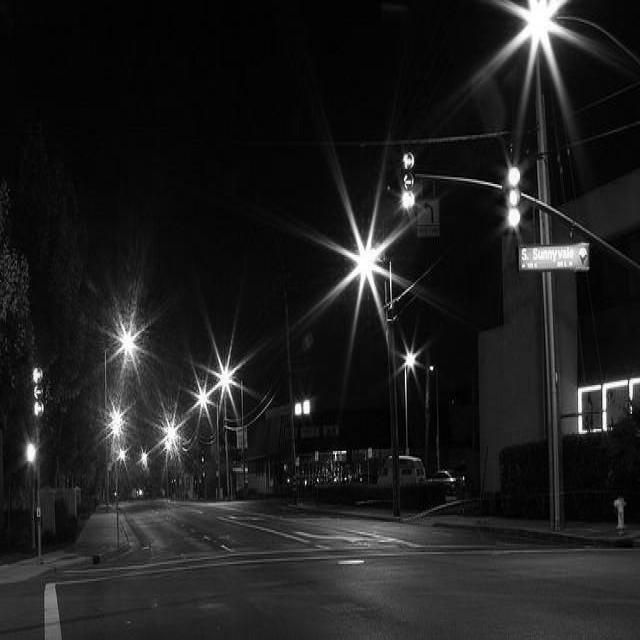vehicle: (379, 454, 426, 487), (378, 456, 426, 486), (426, 470, 464, 495)
